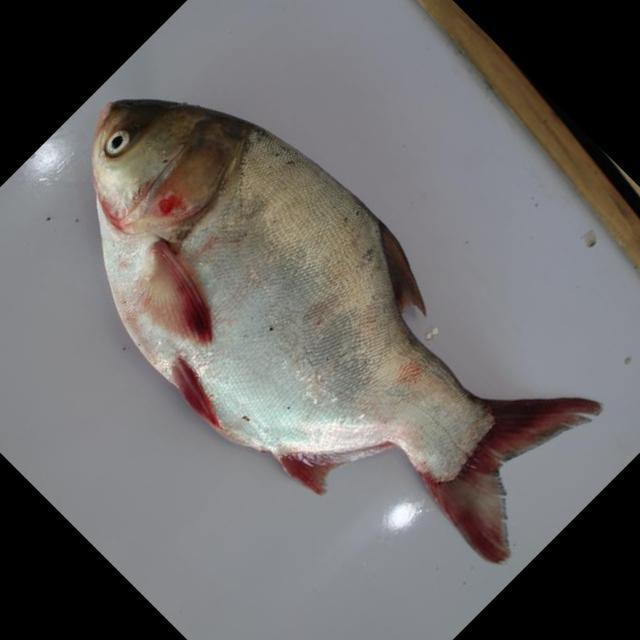SilverCarp: (81, 99, 616, 586)
